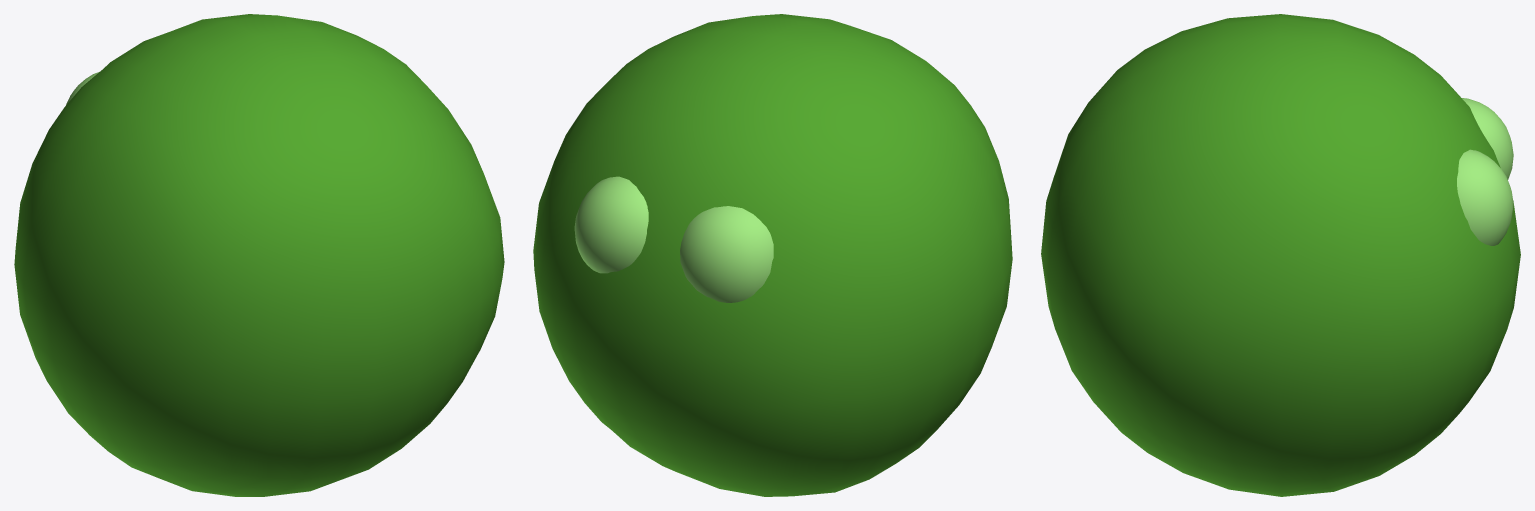
Rendered from circleman.fbx.
The picture shows the model from 3 angles, left to right: view 1: azimuth 30°, elevation 25°; view 2: azimuth 150°, elevation 25°; view 3: azimuth 270°, elevation 25°; orthographic projection.
Parts seen in each view (by area): view 1: Cube; view 2: Cube; view 3: Cube.
Part boxes in pixels (x1=…): Cube: x1=14, y1=14, x2=504, y2=496; Cube: x1=533, y1=14, x2=1012, y2=496; Cube: x1=1041, y1=14, x2=1520, y2=496.
Bounding box in the file's own units: 2.58 × 2.59 × 2.58.
